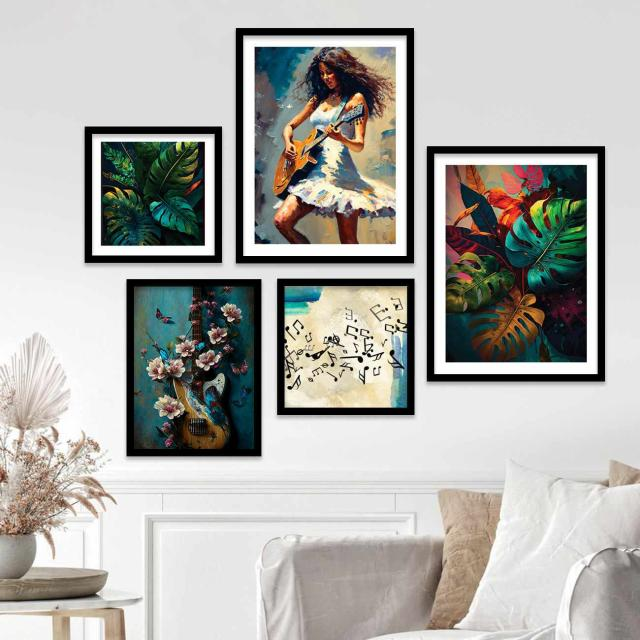painting: (235, 26, 414, 263), (426, 144, 604, 381), (127, 278, 262, 455), (278, 279, 414, 415), (86, 127, 221, 262)
